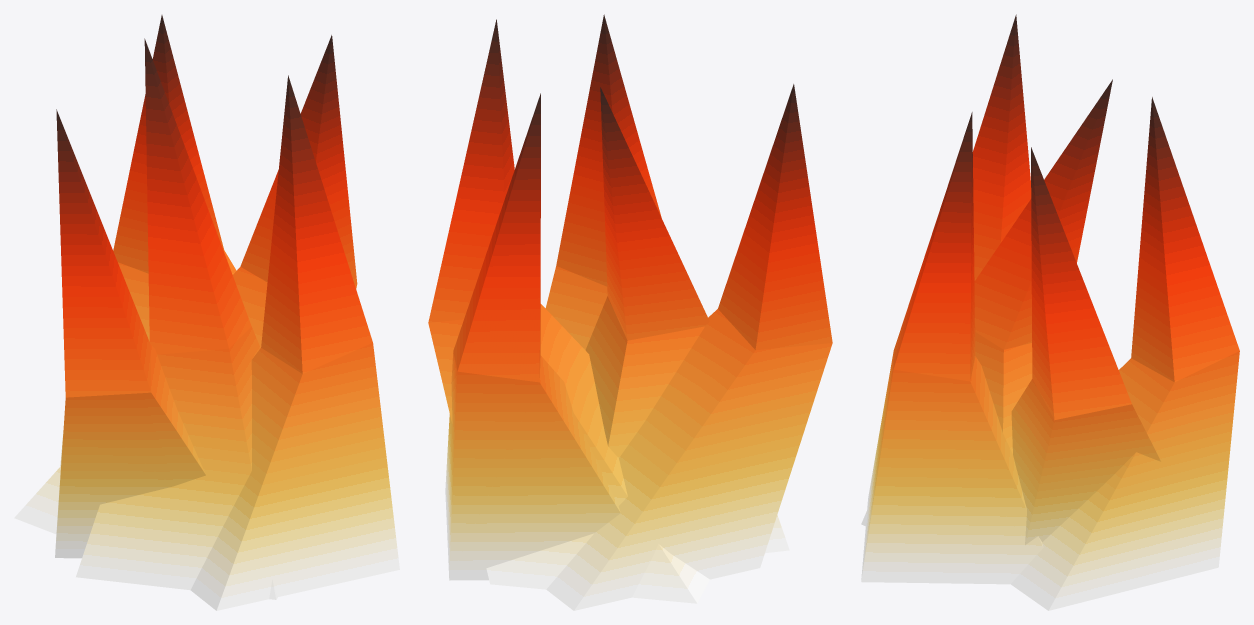
Rendered from fire.glb.
3 renders of one model, left to right at view 1: azimuth 30°, elevation 25°; view 2: azimuth 150°, elevation 25°; view 3: azimuth 270°, elevation 25°, orthographic. The views are drawn at different scales.
Parts seen in each view (by area): view 1: engine_fire.003; view 2: engine_fire.003; view 3: engine_fire.003.
Boxes of the visible parts, <box> form: engine_fire.003: <box>14,15,399,610</box>; engine_fire.003: <box>428,14,832,610</box>; engine_fire.003: <box>861,14,1239,610</box>.
Size of the model in its own units: 0.4851 by 0.6374 by 0.4912.
Materials: 1 (1 with a texture image).
